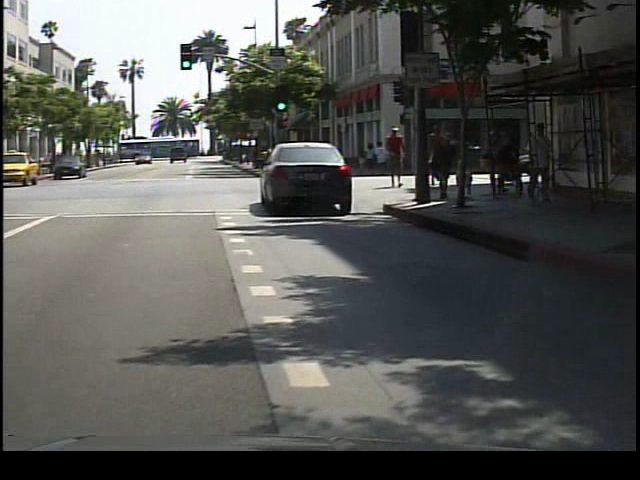person: (387, 123, 414, 192)
